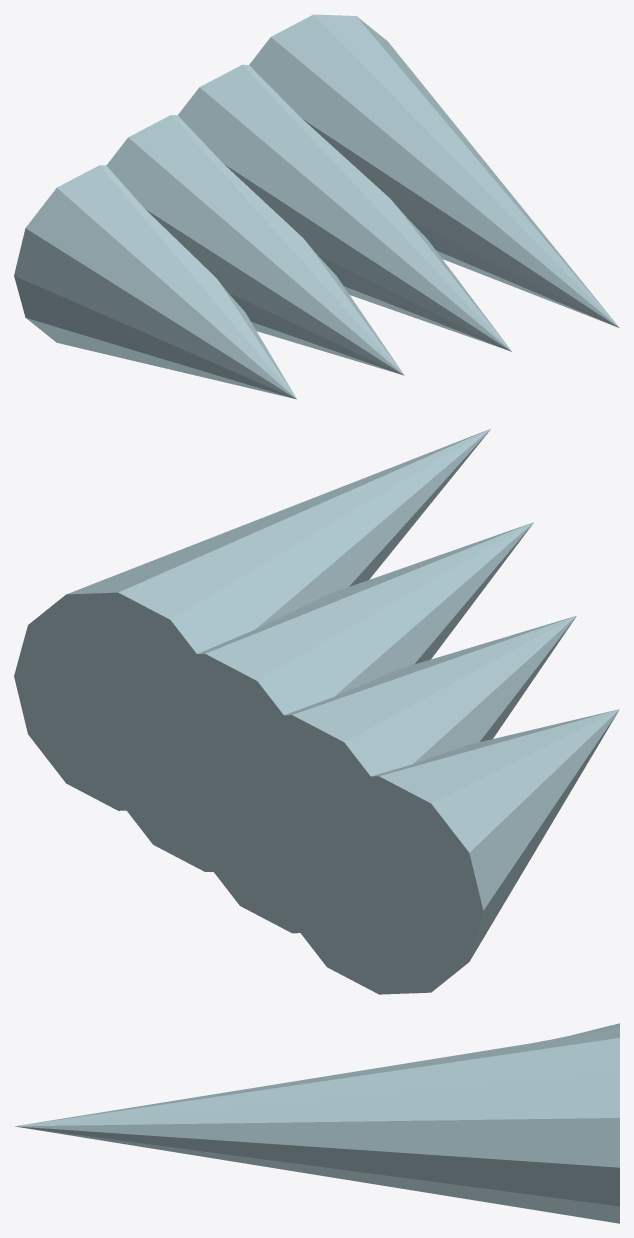
The model's file is world_04.glb.
The picture shows the model from 3 angles, top to bottom: view 1: azimuth 30°, elevation 25°; view 2: azimuth 150°, elevation 25°; view 3: azimuth 270°, elevation 25°; orthographic projection. The views are drawn at different scales.
Visible parts, largest first — view 1: ice-spire_3, ice-spire, ice-spire_2, ice-spire_1; view 2: ice-spire_3, ice-spire, ice-spire_1, ice-spire_2; view 3: ice-spire_3.
Part boxes in pixels (x1,y1,x2,y2): ice-spire_3: (249, 14, 619, 327); ice-spire: (14, 165, 296, 399); ice-spire_2: (178, 64, 511, 351); ice-spire_1: (106, 115, 404, 375); ice-spire_3: (14, 428, 491, 810); ice-spire: (275, 709, 619, 994); ice-spire_1: (188, 615, 576, 933); ice-spire_2: (101, 522, 533, 871); ice-spire_3: (15, 1029, 619, 1223).
Size of the model in its own units: 1.35 by 0.93 by 1.86.
